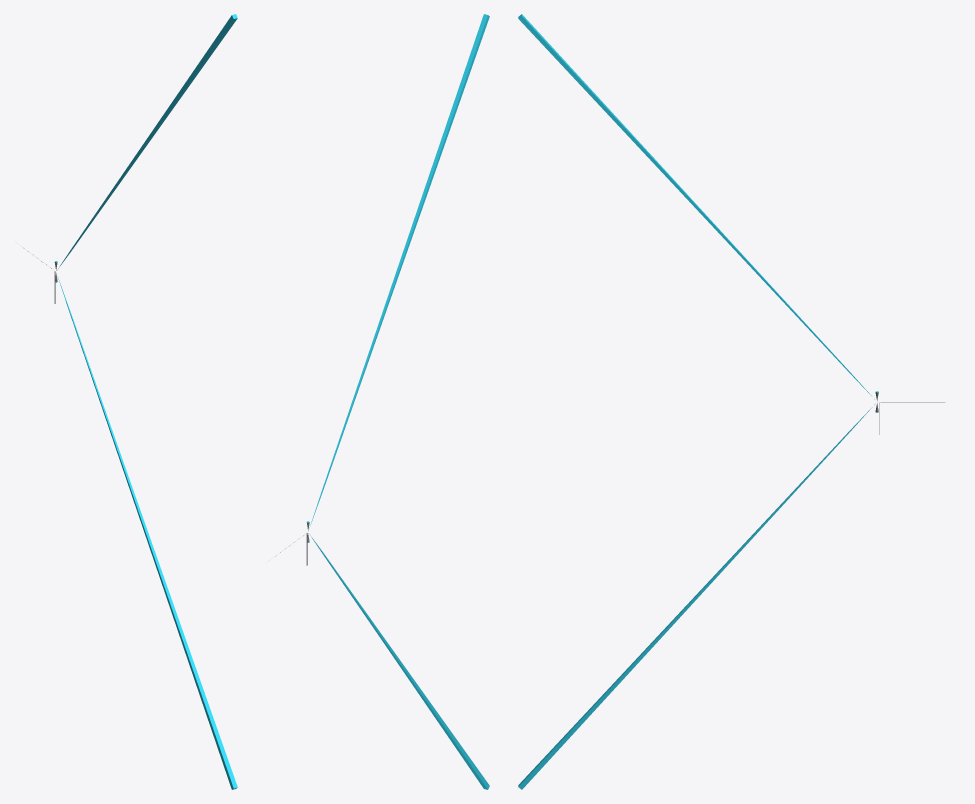
Rendered from kaleidoscope.glb.
3 views of the same model, side by side, from view 1: azimuth 30°, elevation 25°; view 2: azimuth 150°, elevation 25°; view 3: azimuth 270°, elevation 25° (orthographic).
Parts seen in each view (by area): view 1: BigCone1, BigCone0; view 2: BigCone0, BigCone1; view 3: BigCone0, BigCone1.
Boxes of the visible parts, x1,y1,x2,y2 form: BigCone1: [57, 276, 237, 789]; BigCone0: [58, 14, 237, 268]; BigCone0: [309, 14, 489, 527]; BigCone1: [310, 535, 489, 789]; BigCone0: [518, 14, 874, 399]; BigCone1: [518, 404, 874, 789].
Bounding box in the file's own units: 15.06 × 2669 × 1383.
